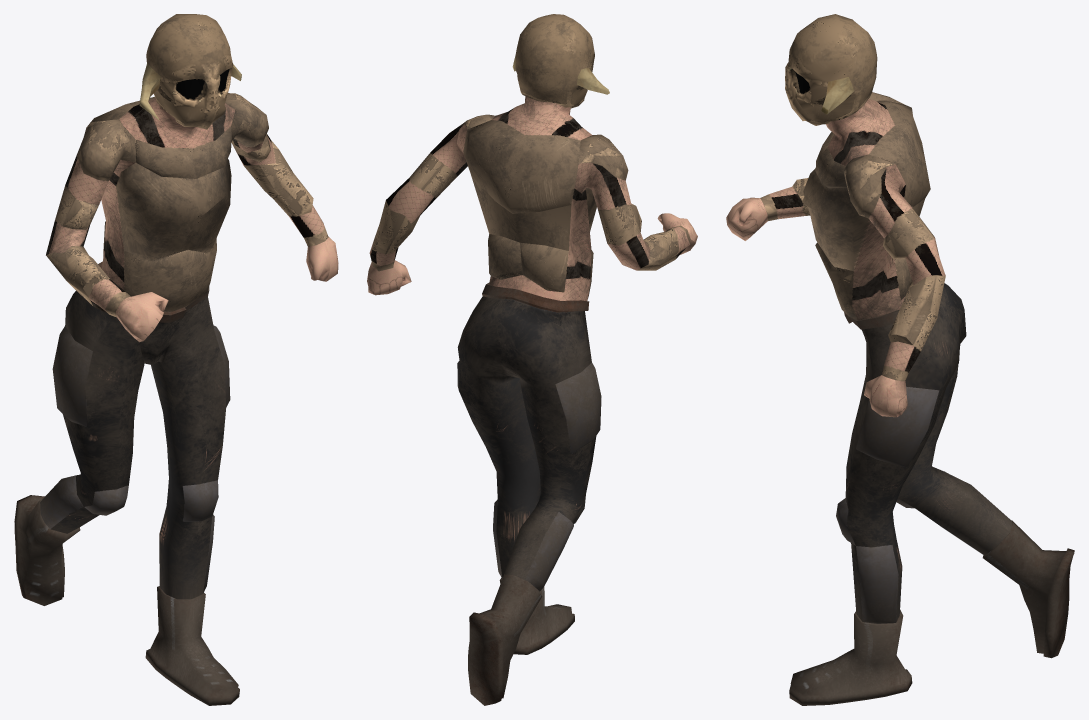
File: Anim_correr_npc1.0037.obj
3 views of the same model, side by side, from view 1: azimuth 30°, elevation 25°; view 2: azimuth 150°, elevation 25°; view 3: azimuth 270°, elevation 25° (orthographic). The views are drawn at different scales.
Visible parts, largest first — view 1: Anim_correr_npc1; view 2: Anim_correr_npc1; view 3: Anim_correr_npc1.
Boxes of the visible parts, left/top/right/bottom form: Anim_correr_npc1: left=14, top=14, right=338, bottom=705; Anim_correr_npc1: left=367, top=14, right=697, bottom=705; Anim_correr_npc1: left=726, top=14, right=1074, bottom=705.
Bounding box in the file's own units: 4.43 × 9.53 × 4.49.
